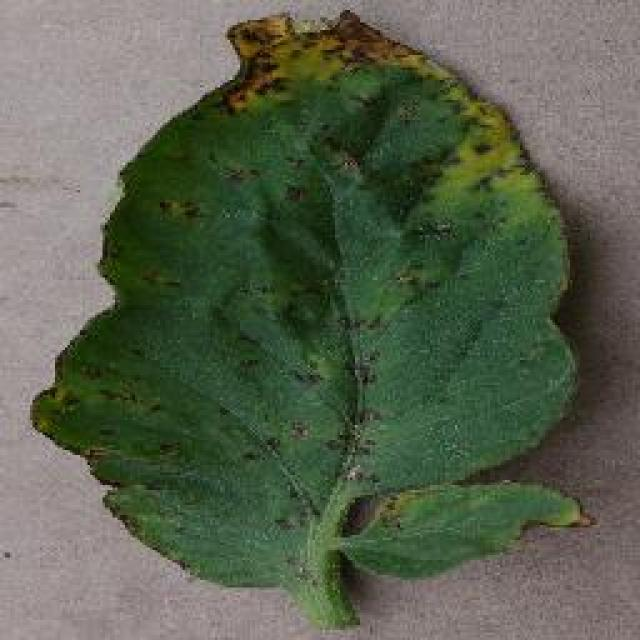bacterial spot: (33, 7, 601, 620)
